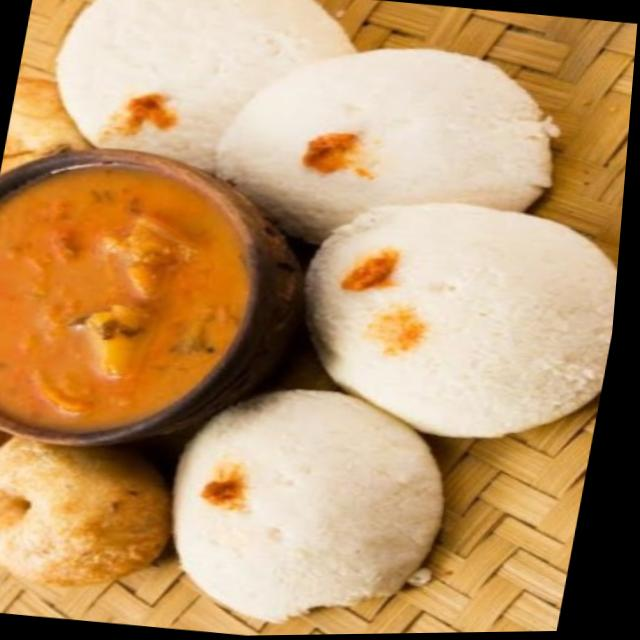IDLI: (56, 0, 617, 619)
SAMBAR: (0, 148, 302, 442)
VADA: (0, 435, 170, 586)
